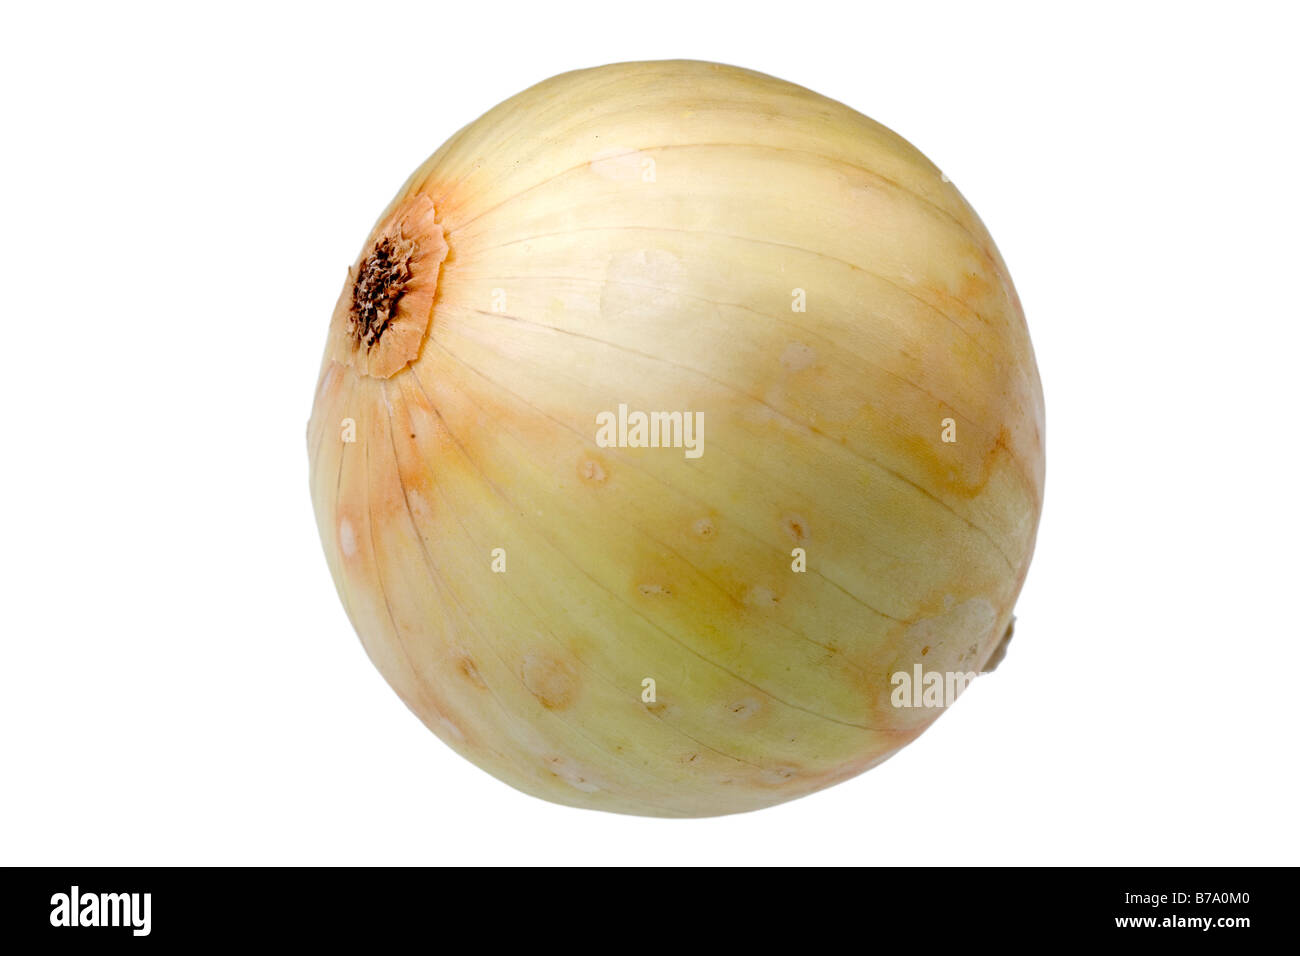onion rotten: (294, 89, 1065, 836)
